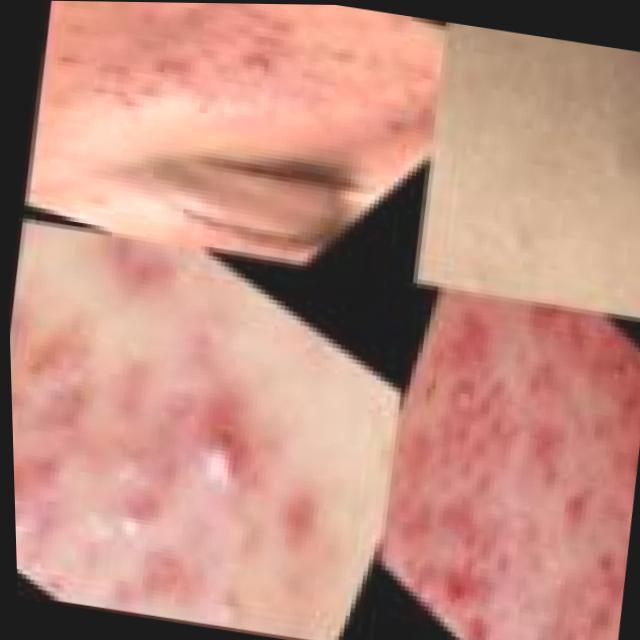cyst: (19, 452, 76, 529), (189, 424, 252, 490), (109, 492, 157, 561), (32, 382, 82, 424), (242, 49, 278, 78), (444, 382, 468, 416)
